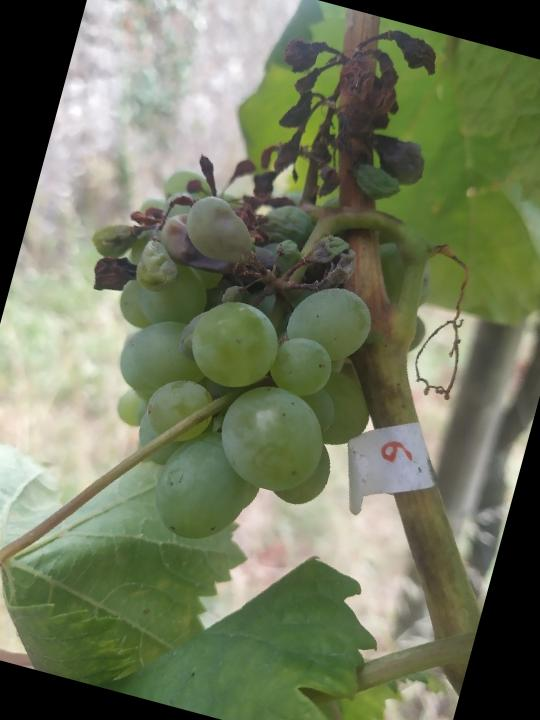grape: (20, 0, 462, 580)
